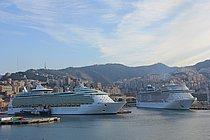Ship: (6, 80, 130, 118), (133, 81, 202, 115)
